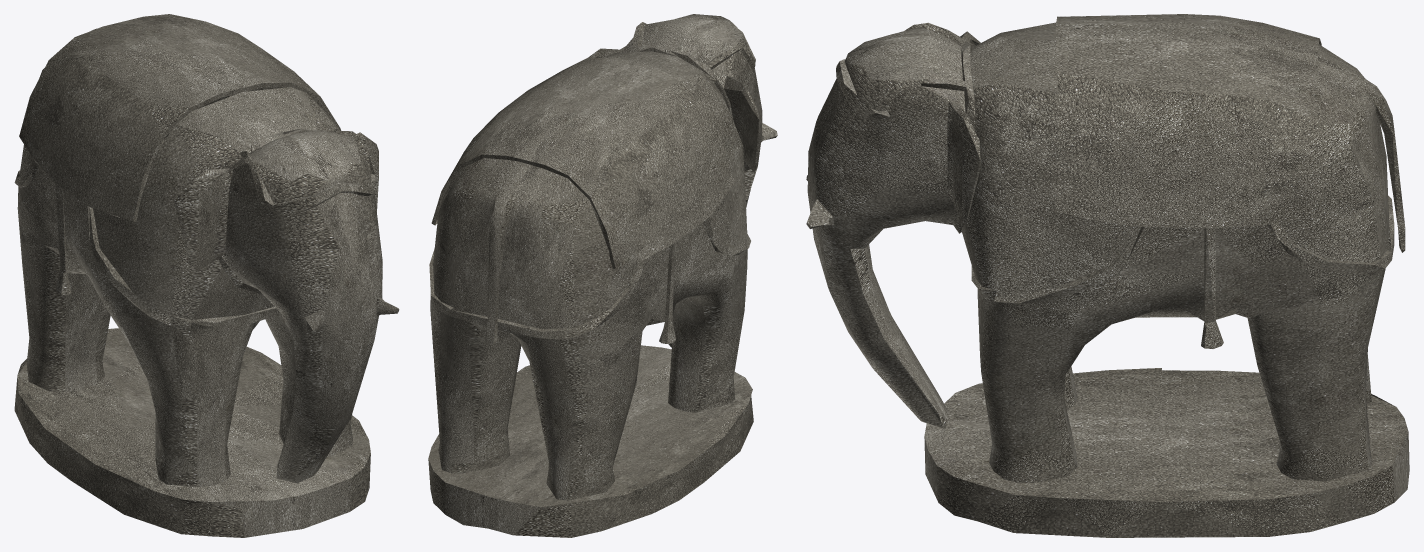
Rendered from Elephant.FBX.
The picture shows the model from 3 angles, left to right: view 1: azimuth 30°, elevation 25°; view 2: azimuth 150°, elevation 25°; view 3: azimuth 270°, elevation 25°; orthographic projection. The views are drawn at different scales.
Visible parts, largest first — view 1: Elephant; view 2: Elephant; view 3: Elephant.
Part boxes in pixels (box(x1,y1,x2,y2)): Elephant: box(14, 14, 399, 537); Elephant: box(428, 14, 777, 537); Elephant: box(806, 14, 1409, 537).
Bounding box in the file's own units: 5.07 × 7.84 × 9.71.
1 material, 1 textured.
